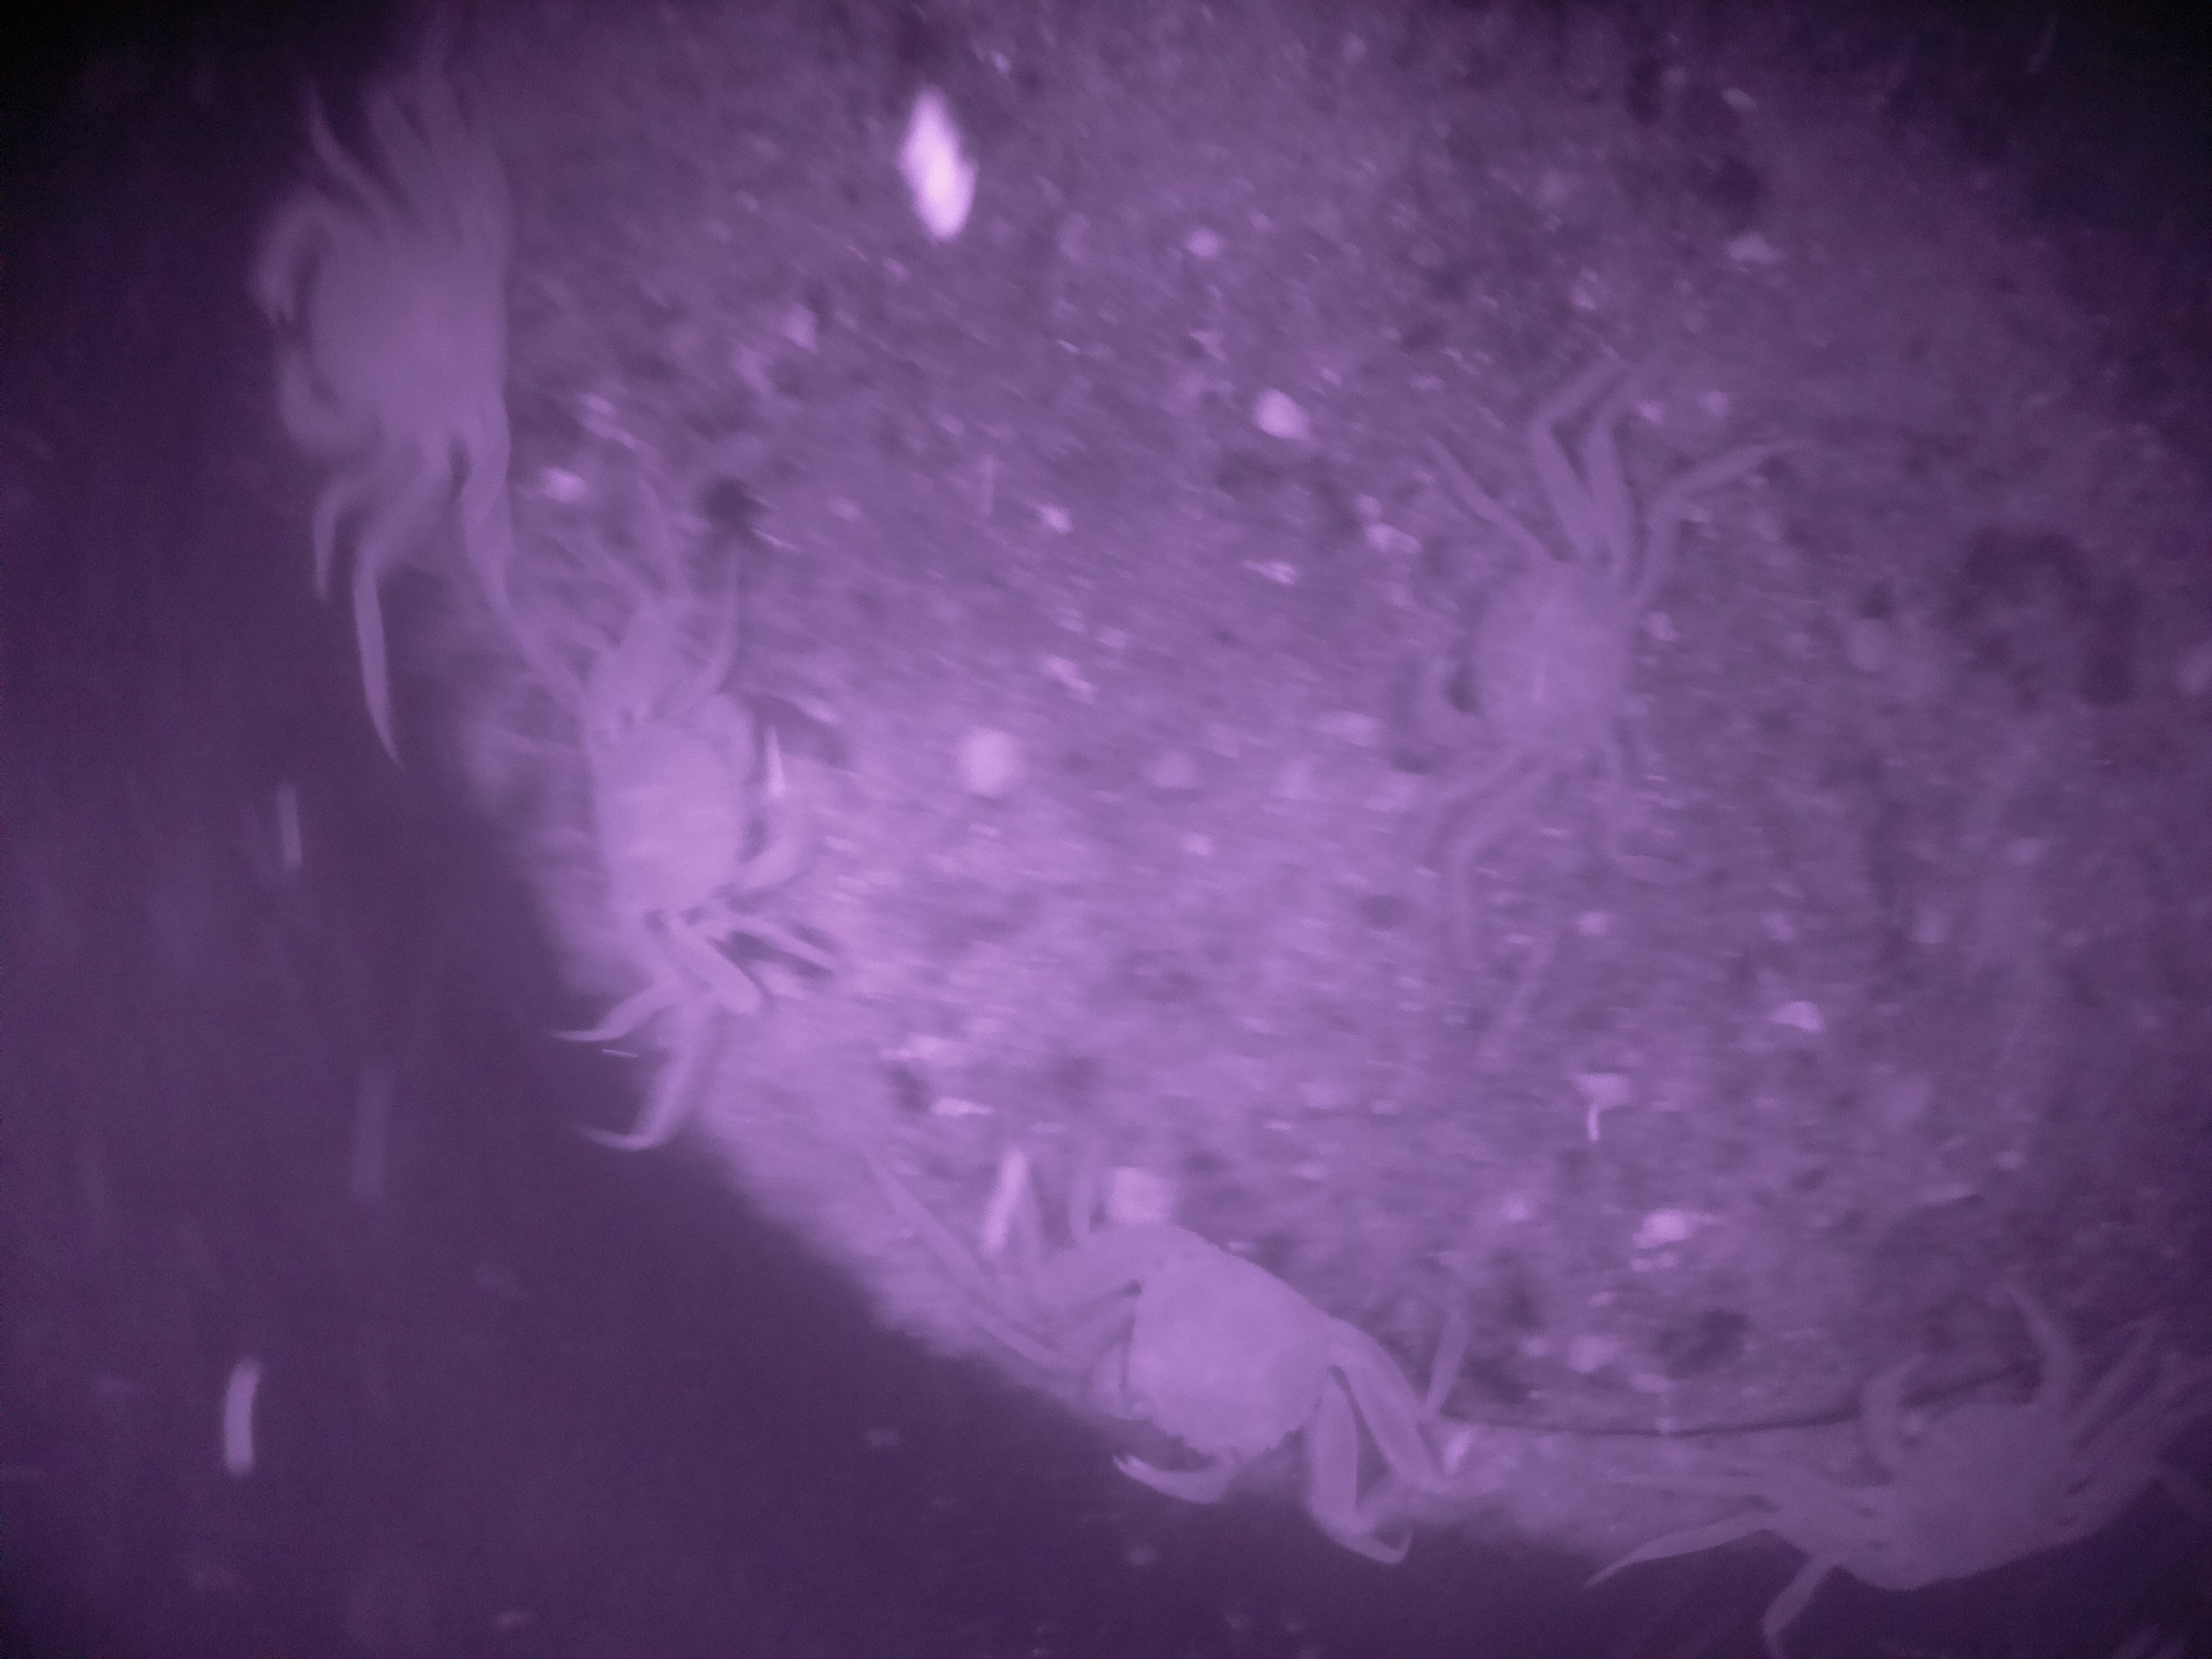Crab: (1022, 1110, 1432, 1619), (235, 52, 557, 674)
